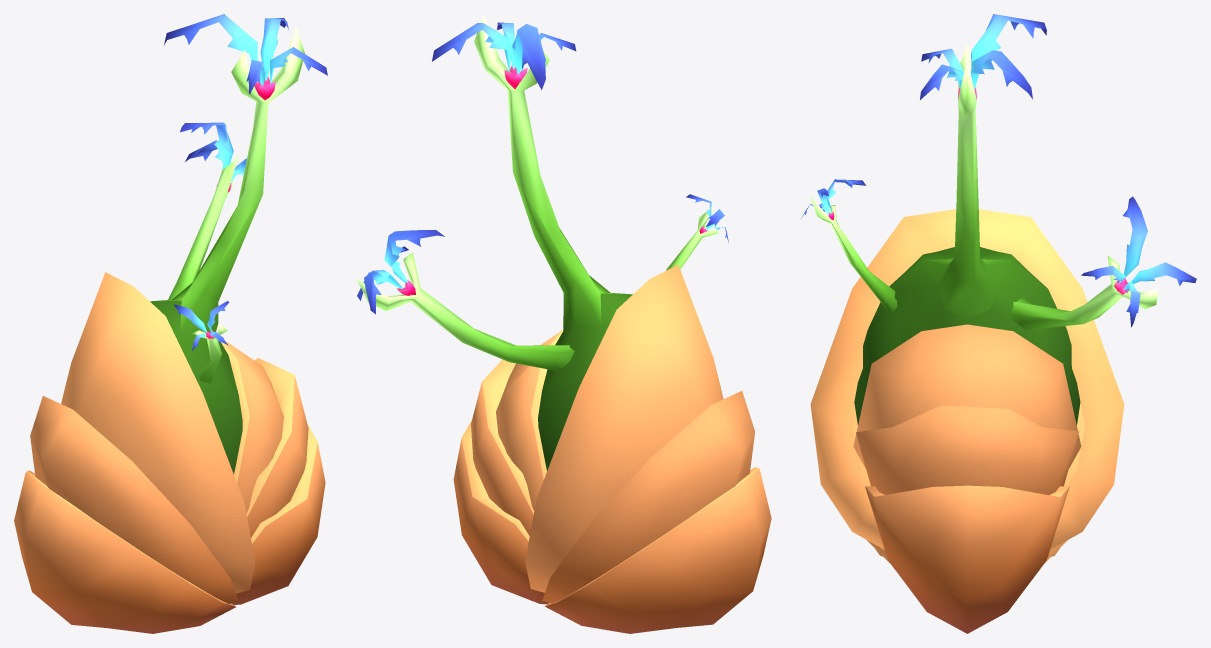
The model's file is hidden_fern_bulb.glb.
The picture shows the model from 3 angles, left to right: view 1: azimuth 30°, elevation 25°; view 2: azimuth 150°, elevation 25°; view 3: azimuth 270°, elevation 25°; orthographic projection. The views are drawn at different scales.
Parts seen in each view (by area): view 1: Hidden Fern Bulb; view 2: Hidden Fern Bulb; view 3: Hidden Fern Bulb.
Boxes of the visible parts, bbox=[...] form: Hidden Fern Bulb: bbox=[14, 14, 327, 633]; Hidden Fern Bulb: bbox=[356, 14, 771, 633]; Hidden Fern Bulb: bbox=[801, 14, 1196, 633].
Size of the model in its own units: 0.9309 by 1.61 by 0.9586.
1 material, 1 textured.
